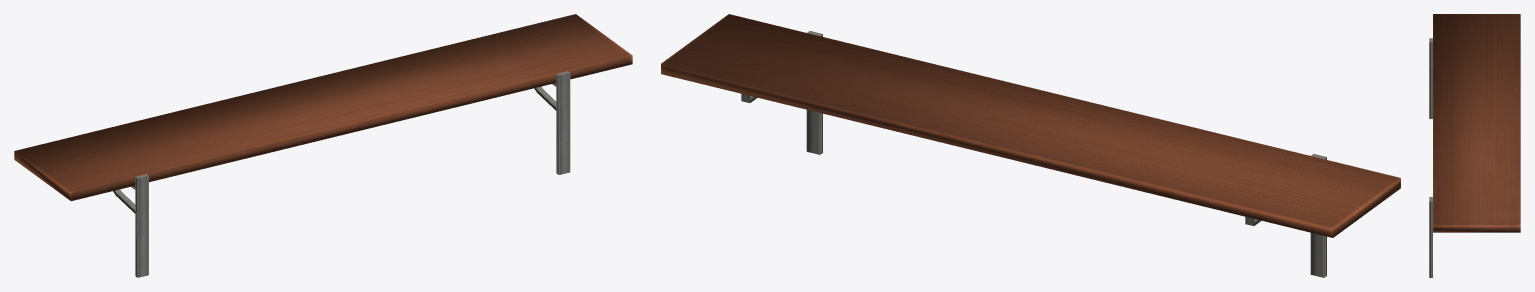
The model's file is shelf_wall.dae.
3 views of the same model, side by side, from view 1: azimuth 30°, elevation 25°; view 2: azimuth 150°, elevation 25°; view 3: azimuth 270°, elevation 25° (orthographic). The views are drawn at different scales.
Visible parts, largest first — view 1: polySurface327; view 2: polySurface327; view 3: polySurface327.
Boxes of the visible parts, <box> form: polySurface327: <box>14,14,632,277</box>; polySurface327: <box>661,14,1400,277</box>; polySurface327: <box>1429,14,1520,277</box>.
Size of the model in its own units: 200 by 33.78 by 36.52.
